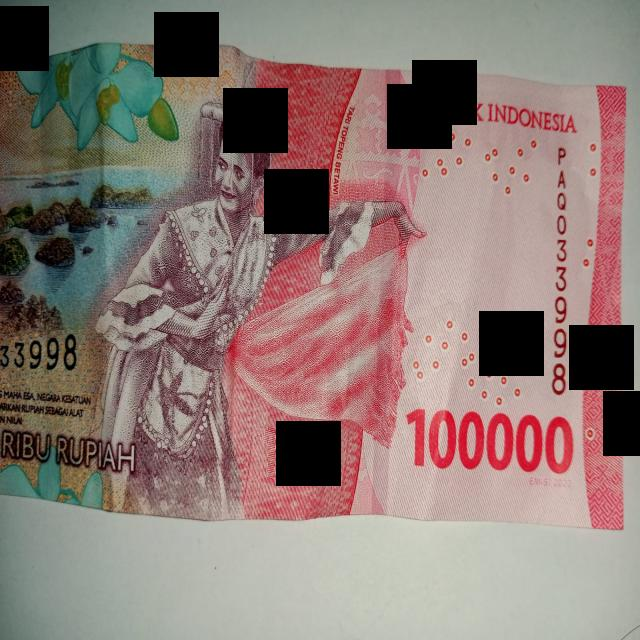seratusribu rupiah: (0, 43, 625, 528)
